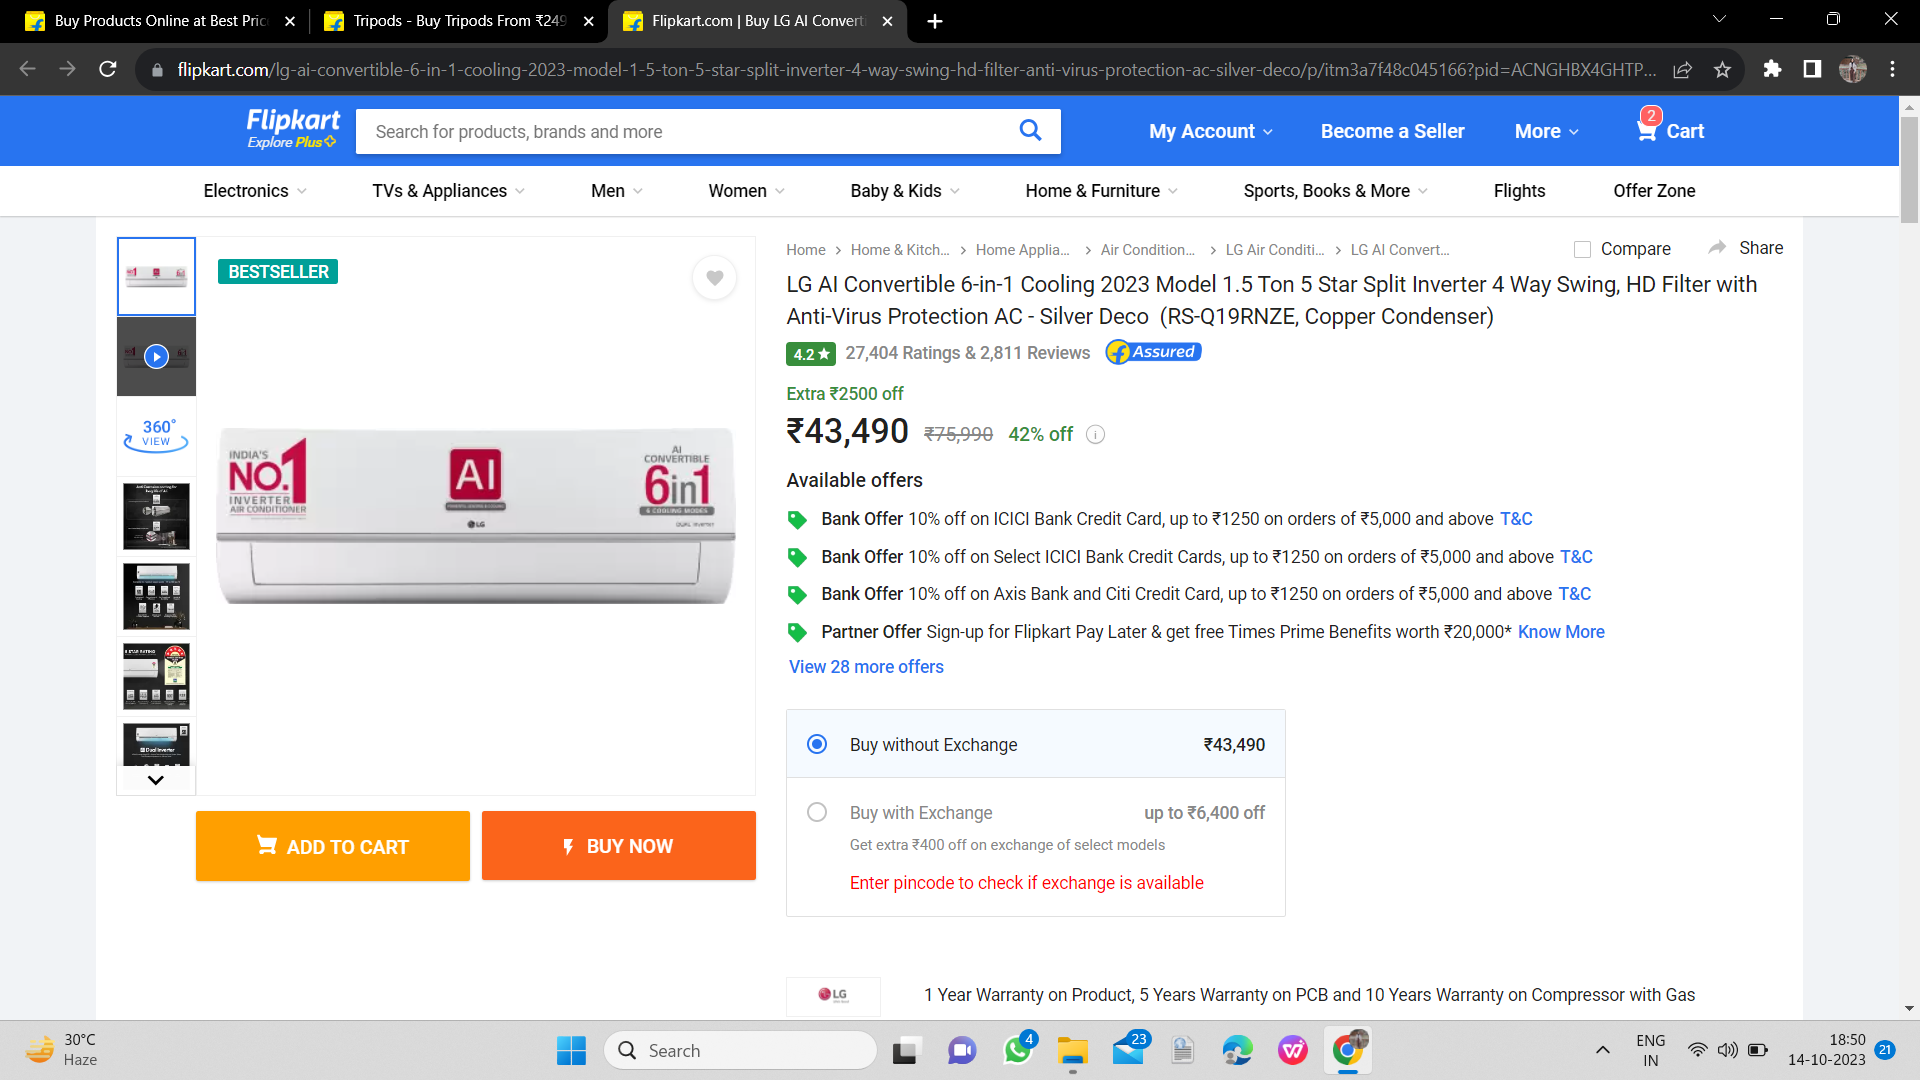Image: (214, 240, 749, 669), (770, 272, 1768, 335), (348, 100, 1075, 160)
Paragraph: (774, 462, 1625, 686), (190, 798, 761, 895), (804, 798, 1269, 898), (800, 980, 1724, 1023), (1113, 102, 1717, 152), (787, 720, 1282, 773), (777, 384, 1116, 451), (774, 343, 1212, 369)
